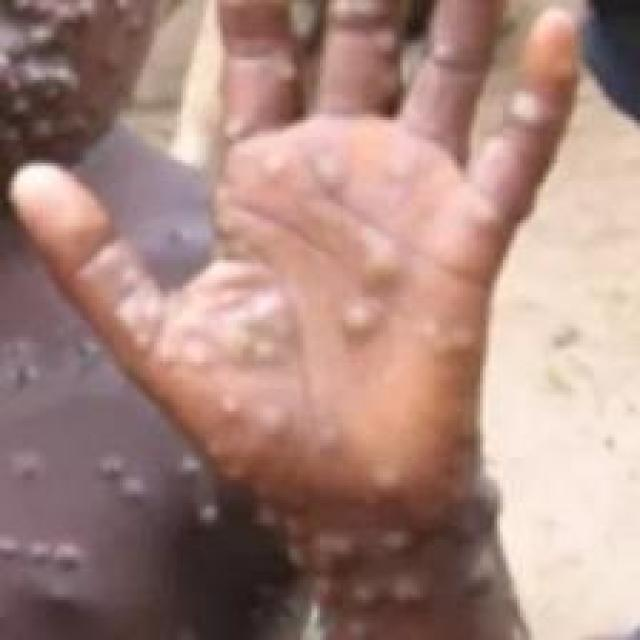monkeypox: (48, 0, 608, 640)
